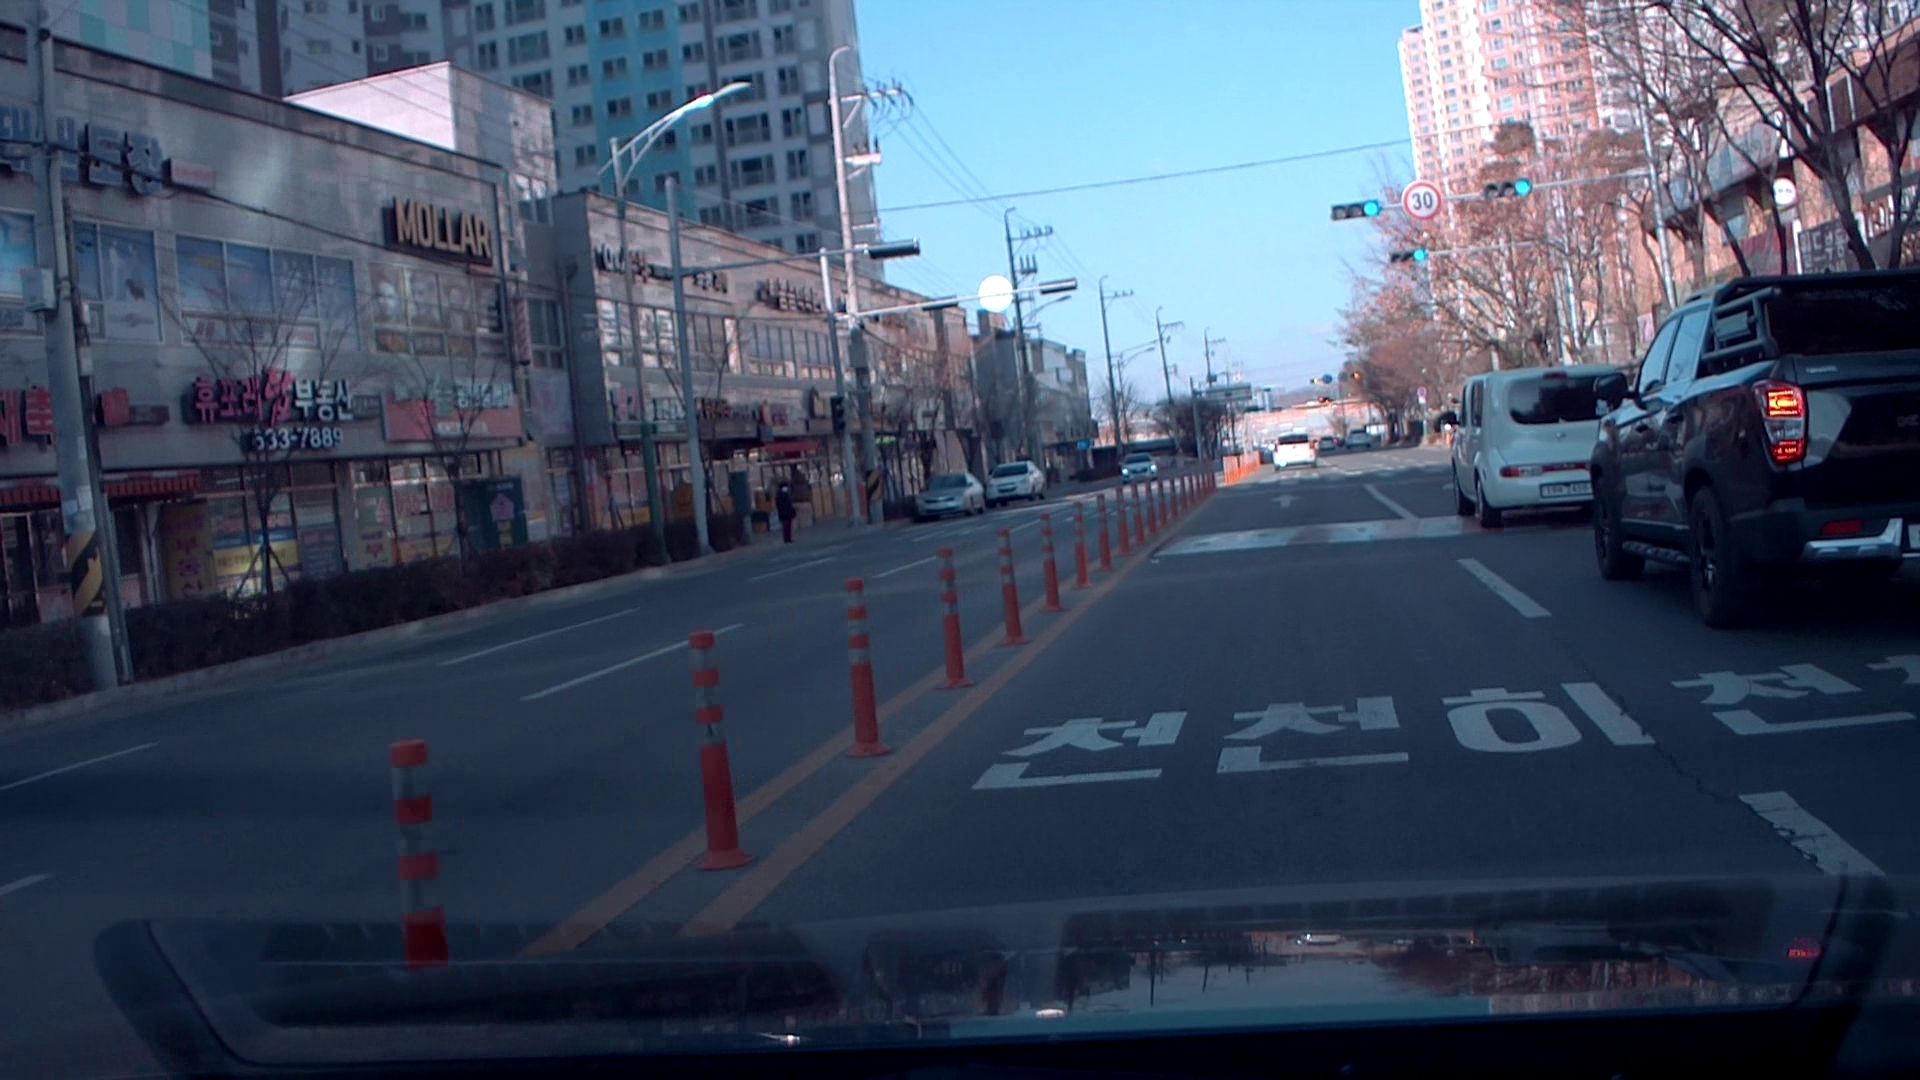trafficLight: (1327, 193, 1389, 223), (1484, 175, 1536, 202), (1390, 247, 1431, 266)
trafficSignCircle: (1403, 179, 1445, 220)
